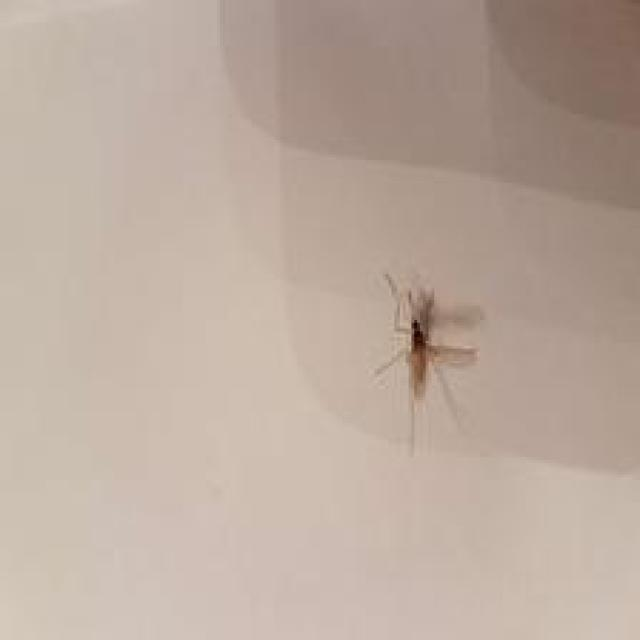Culex: (370, 270, 484, 456)
